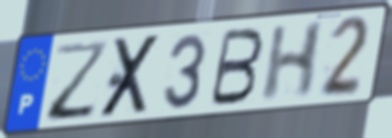2: (318, 13, 372, 102)
3: (161, 31, 209, 111)
B: (206, 26, 266, 109)
H: (258, 18, 328, 105)
X: (96, 32, 165, 122)
Z: (45, 37, 112, 124)
